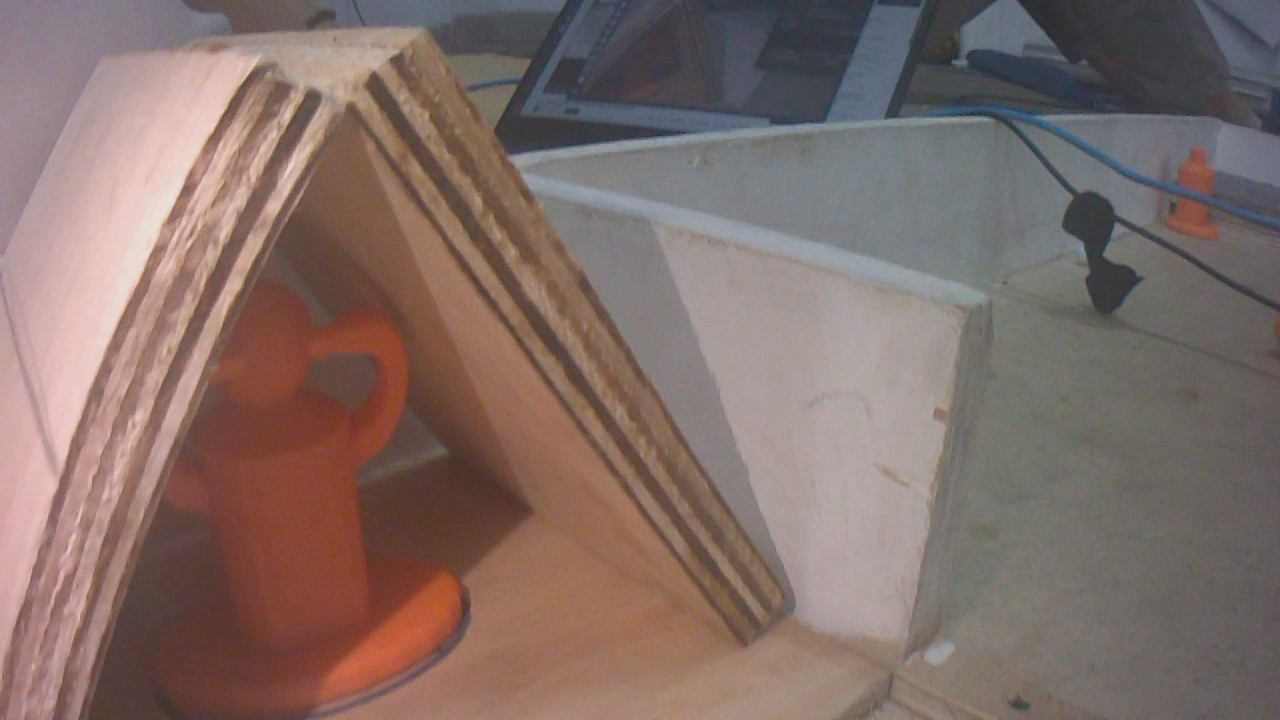real: (142, 296, 467, 719)
